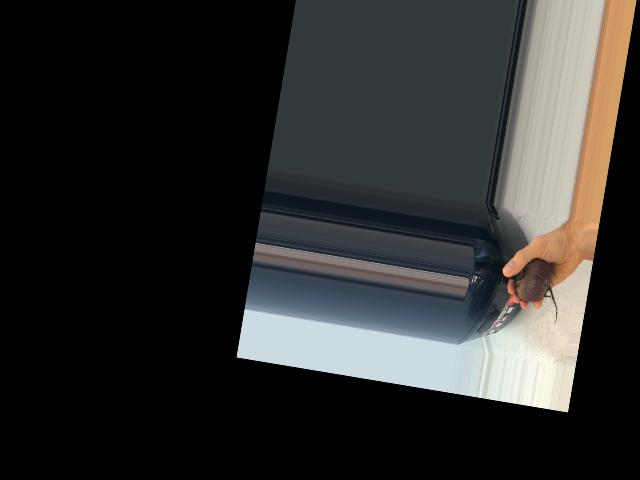beet: (503, 254, 566, 324)
